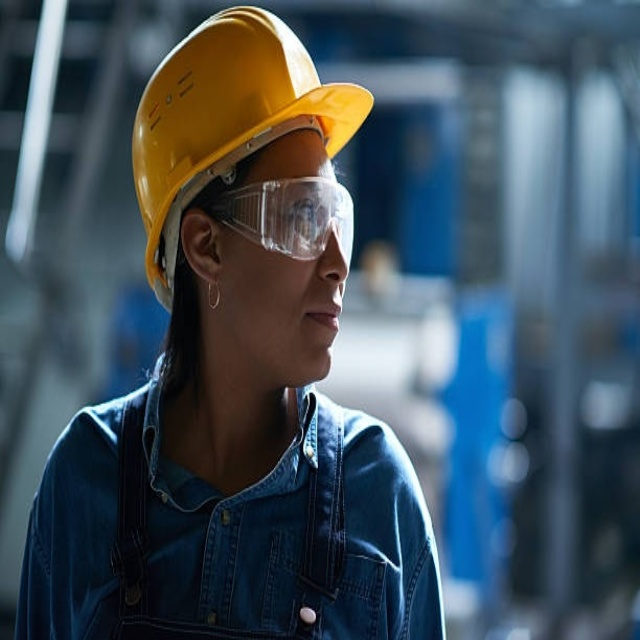Gafas: (204, 177, 356, 263)
Sin_mascara: (281, 285, 355, 377)
